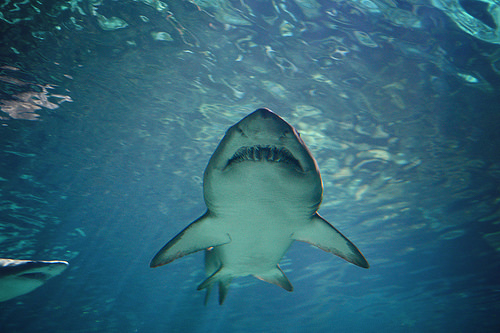shark: (121, 78, 389, 318)
